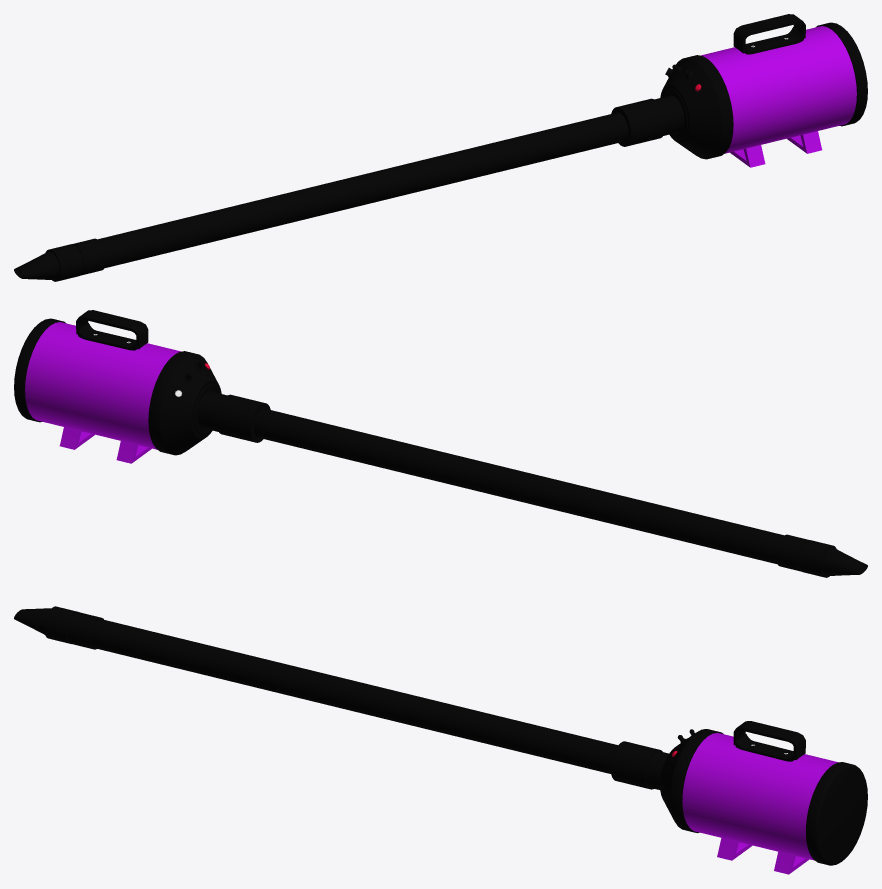
Rendered from DryerV2.fbx.
3 views of the same model, one above another, from view 1: azimuth 30°, elevation 25°; view 2: azimuth 150°, elevation 25°; view 3: azimuth 330°, elevation 25° (orthographic).
Parts seen in each view (by area): view 1: Cylinder; view 2: Cylinder; view 3: Cylinder.
Part boxes in pixels (<box>): Cylinder: <box>14,14,867,281</box>; Cylinder: <box>14,310,867,577</box>; Cylinder: <box>14,606,867,874</box>.
Bounding box in the file's own units: 1871 × 268 × 205.
1 material, 1 textured.
